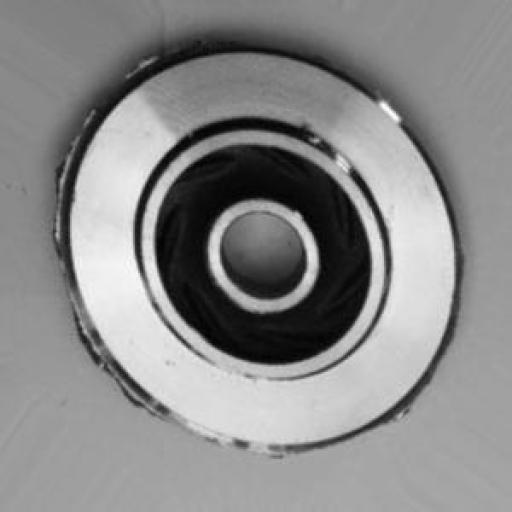defect: (36, 28, 486, 470)
